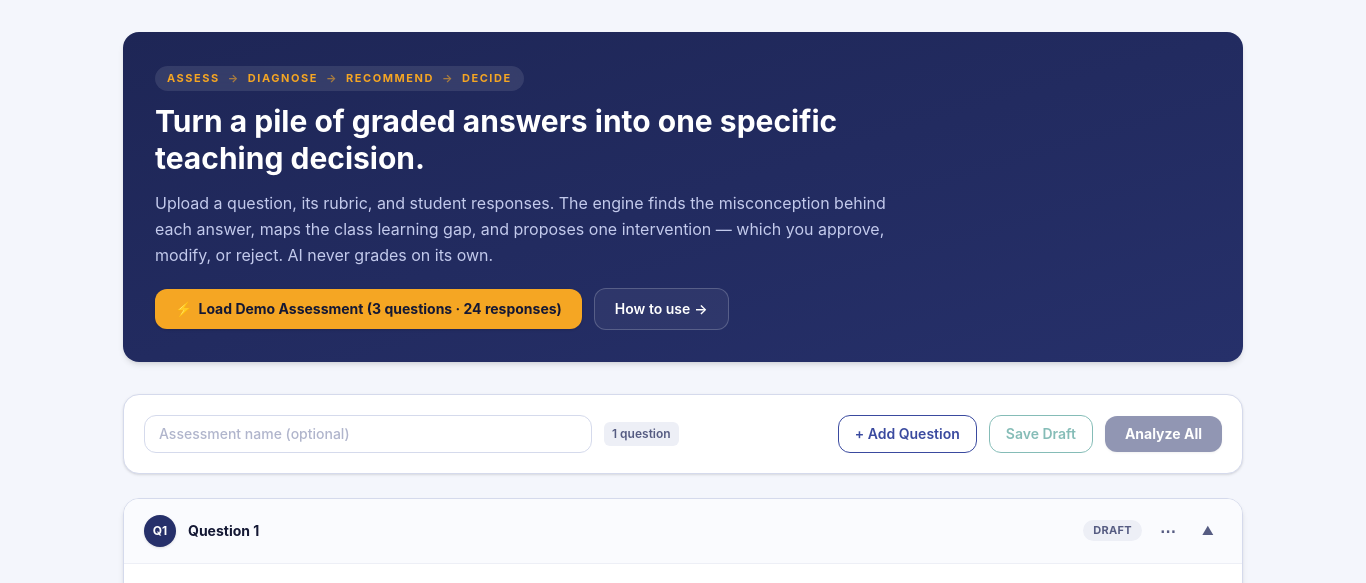
Scenario: AssessmentWorkspace › loads multi-question demo assessment
Click the text "Load Demo Assessment (3 questions · 24 responses)". click: {"x": 380, "y": 308}
box: x1=198 y1=298 x2=562 y2=318
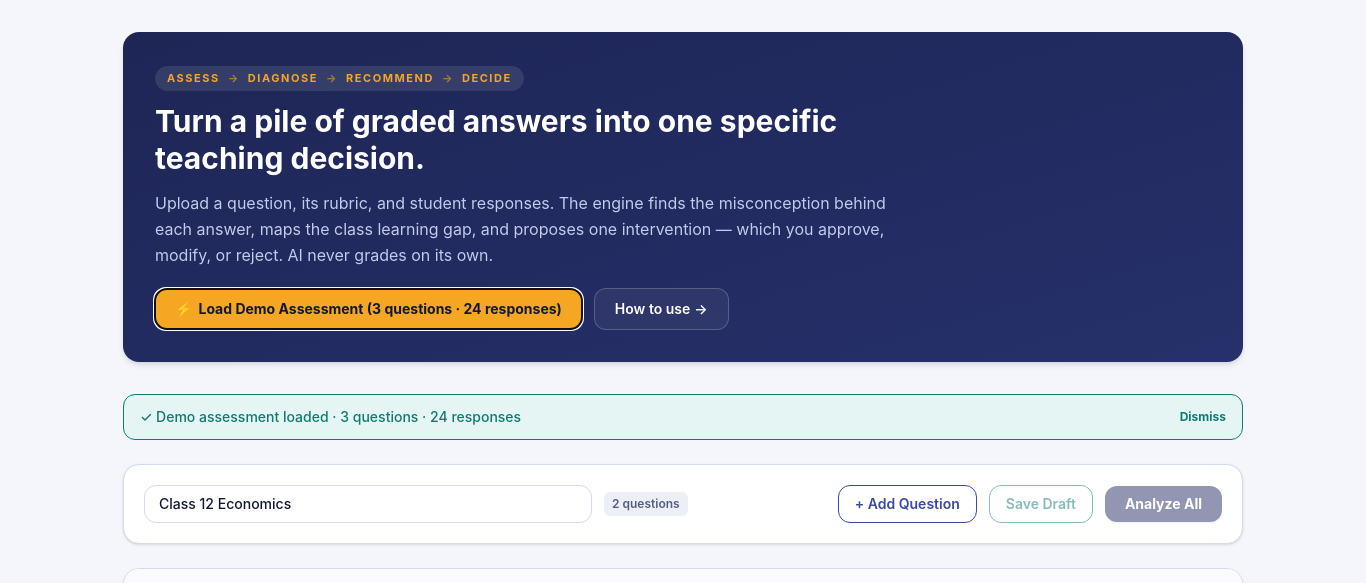
Now the field showing "Class 12 Economics" is shown, box x1=144 y1=484 x2=592 y2=522
Now the text "2 questions" is shown, box x1=604 y1=492 x2=688 y2=516
